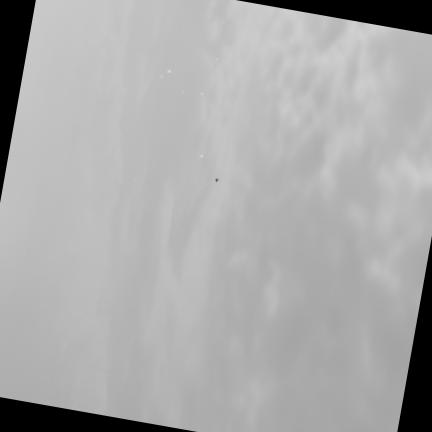Shahed: (215, 179, 218, 182)
